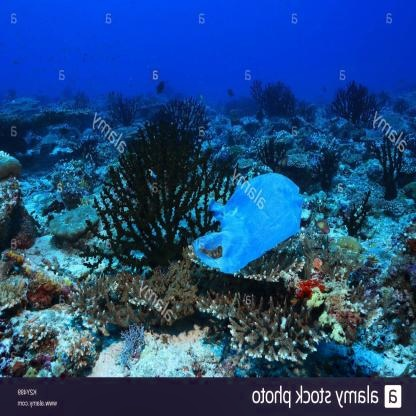pbag: (188, 164, 306, 277)
